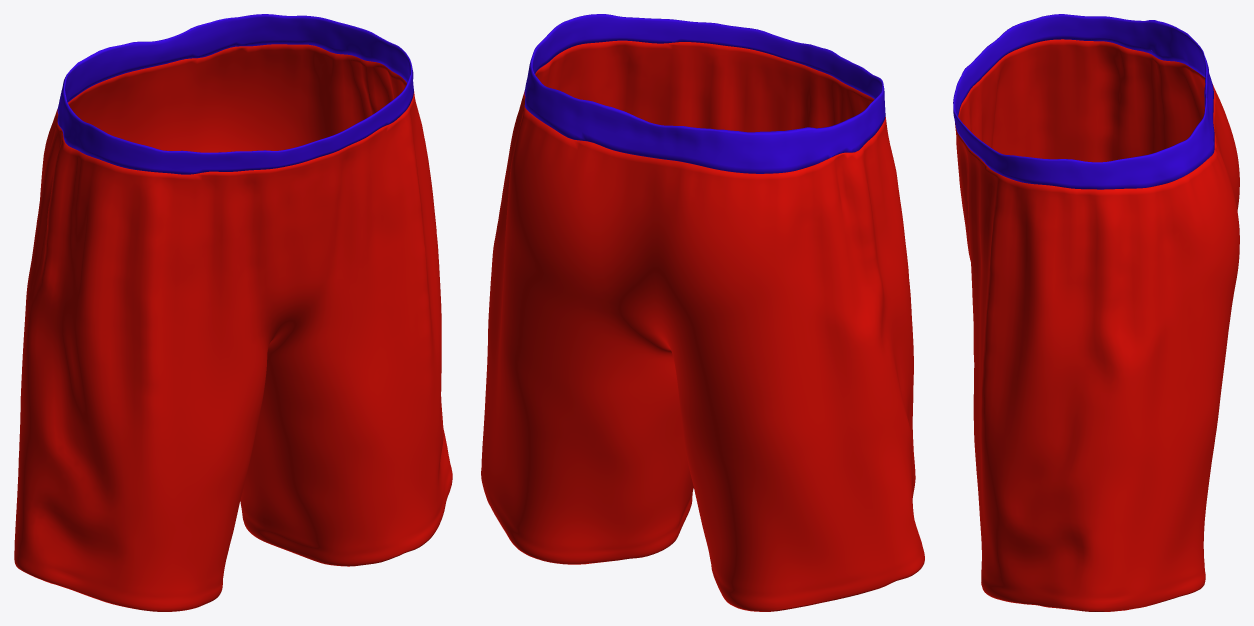
File: Short.glb
3 views of the same model, side by side, from view 1: azimuth 30°, elevation 25°; view 2: azimuth 150°, elevation 25°; view 3: azimuth 270°, elevation 25° (orthographic). The views are drawn at different scales.
Visible parts, largest first — view 1: Shorts.001, Top shorts'; view 2: Shorts.001, Top shorts'; view 3: Shorts.001, Top shorts'.
Part boxes in pixels (left/top/right/bottom): Shorts.001: left=14, top=44, right=452, bottom=611; Top shorts': left=57, top=14, right=413, bottom=174; Shorts.001: left=481, top=40, right=924, bottom=611; Top shorts': left=524, top=14, right=885, bottom=173; Shorts.001: left=955, top=39, right=1239, bottom=611; Top shorts': left=953, top=14, right=1214, bottom=189.
Bounding box in the file's own units: 0.936 × 0.9965 × 0.5661.
